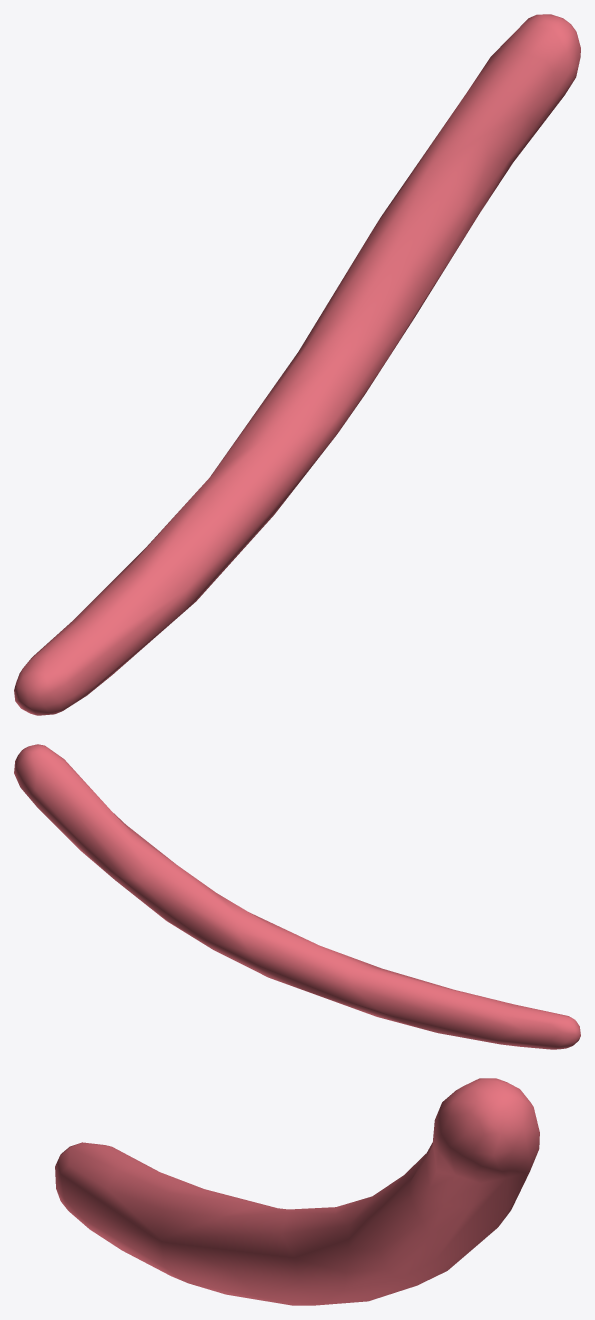
Rendered from fma8664_fj6103.glb.
3 views of the same model, one above another, from view 1: azimuth 30°, elevation 25°; view 2: azimuth 150°, elevation 25°; view 3: azimuth 270°, elevation 25° (orthographic). The views are drawn at different scales.
Visible parts, largest first — view 1: FMA8664_FJ6103; view 2: FMA8664_FJ6103; view 3: FMA8664_FJ6103.
Part boxes in pixels (x1,y1,x2,y2): FMA8664_FJ6103: (14, 14, 580, 715); FMA8664_FJ6103: (14, 744, 580, 1049); FMA8664_FJ6103: (55, 1078, 539, 1305).
Bounding box in the file's own units: 0.0549 × 0.0309 × 0.025.
